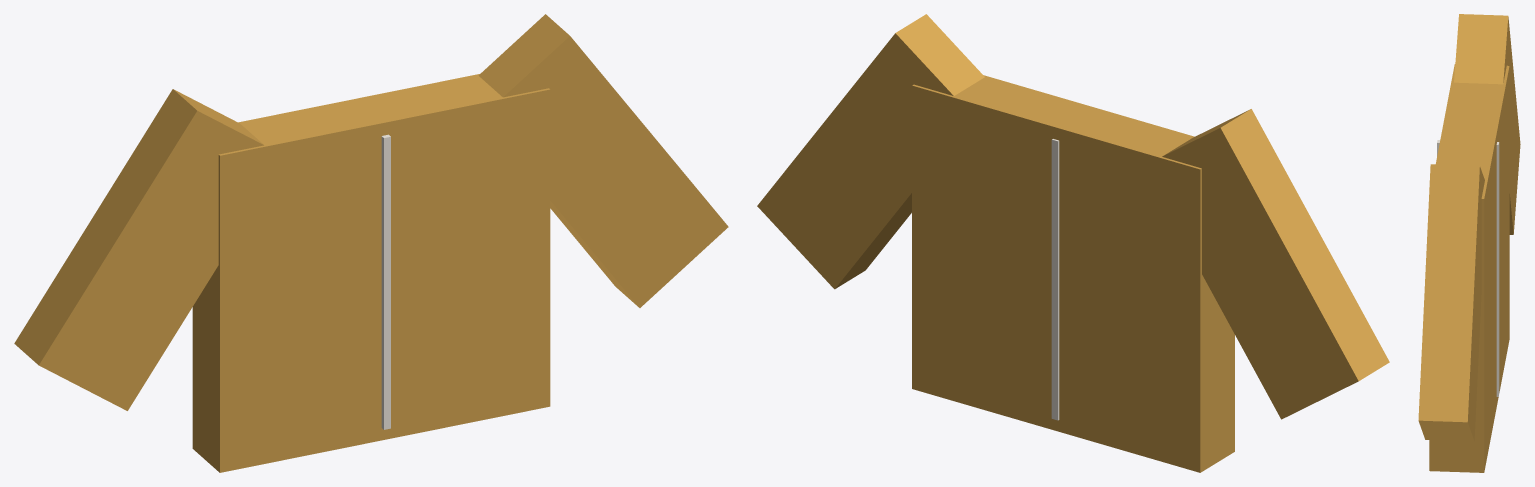
File: overall-004.v1.glb
3 views of the same model, side by side, from view 1: azimuth 30°, elevation 25°; view 2: azimuth 150°, elevation 25°; view 3: azimuth 270°, elevation 25° (orthographic). The views are drawn at different scales.
Visible parts, largest first — view 1: Garment; view 2: Garment; view 3: Garment.
Part boxes in pixels (x1,y1,x2,y2): Garment: (14, 14, 728, 472); Garment: (757, 14, 1389, 472); Garment: (1418, 14, 1520, 472).
Bounding box in the file's own units: 2.41 × 1.27 × 0.3713.
